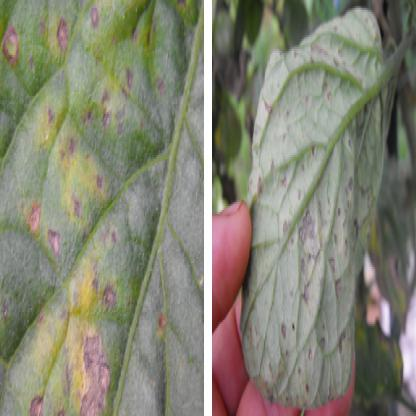tomato septoria leaf spot: (1, 14, 195, 396), (230, 14, 394, 406)
